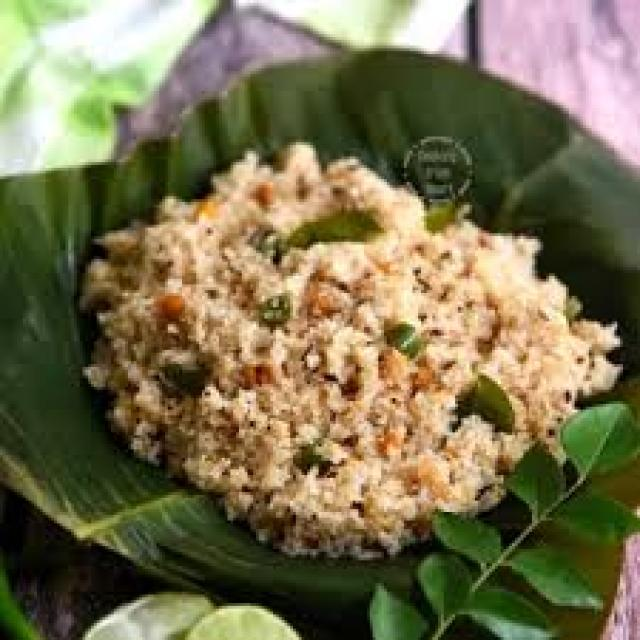UPMA: (75, 141, 608, 556)
